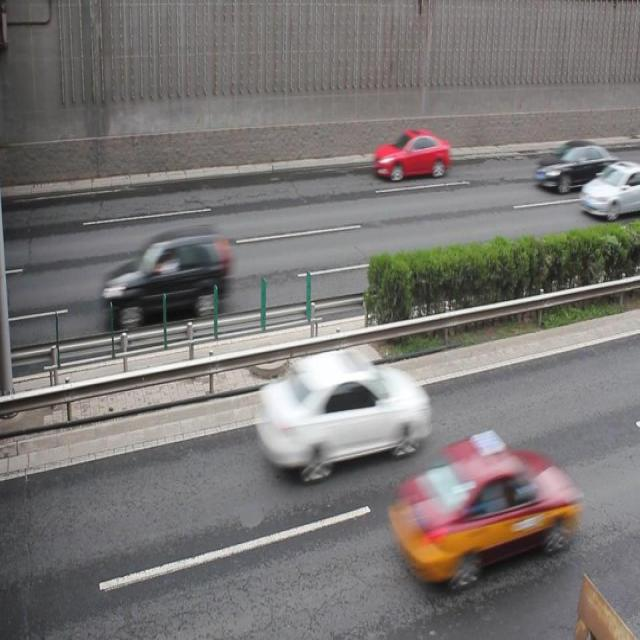car: (384, 431, 570, 585), (256, 348, 428, 477), (102, 228, 232, 328), (535, 139, 618, 193), (371, 127, 450, 182), (577, 160, 640, 218)
